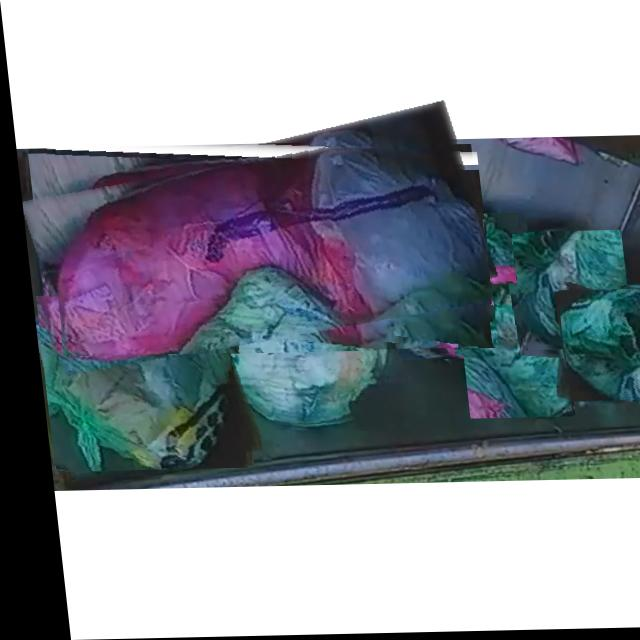general_trashbag: (37, 299, 223, 471), (199, 255, 372, 425), (386, 219, 519, 357), (451, 284, 562, 419), (513, 239, 620, 351), (554, 291, 640, 398)
other_trashbag: (51, 145, 482, 356)
